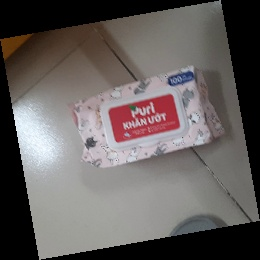Puri hong: (69, 66, 225, 169)
